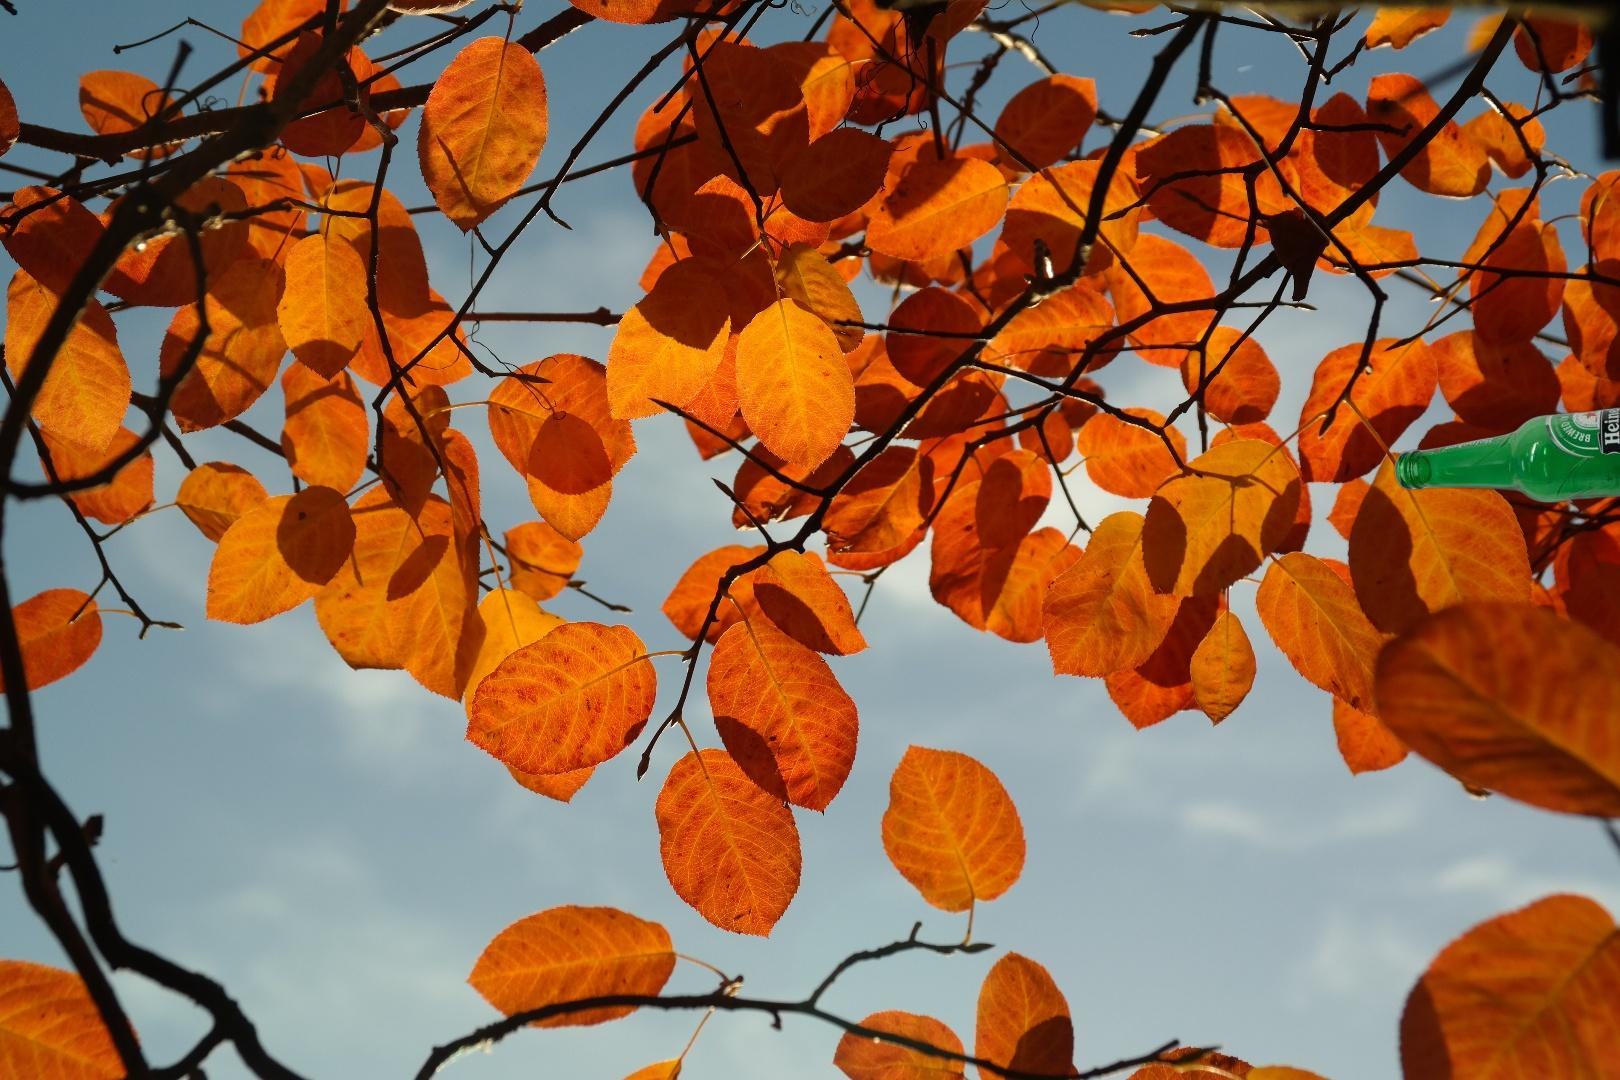glass: (1391, 378, 1620, 506)
shoes: (1579, 1069, 1620, 1080)
